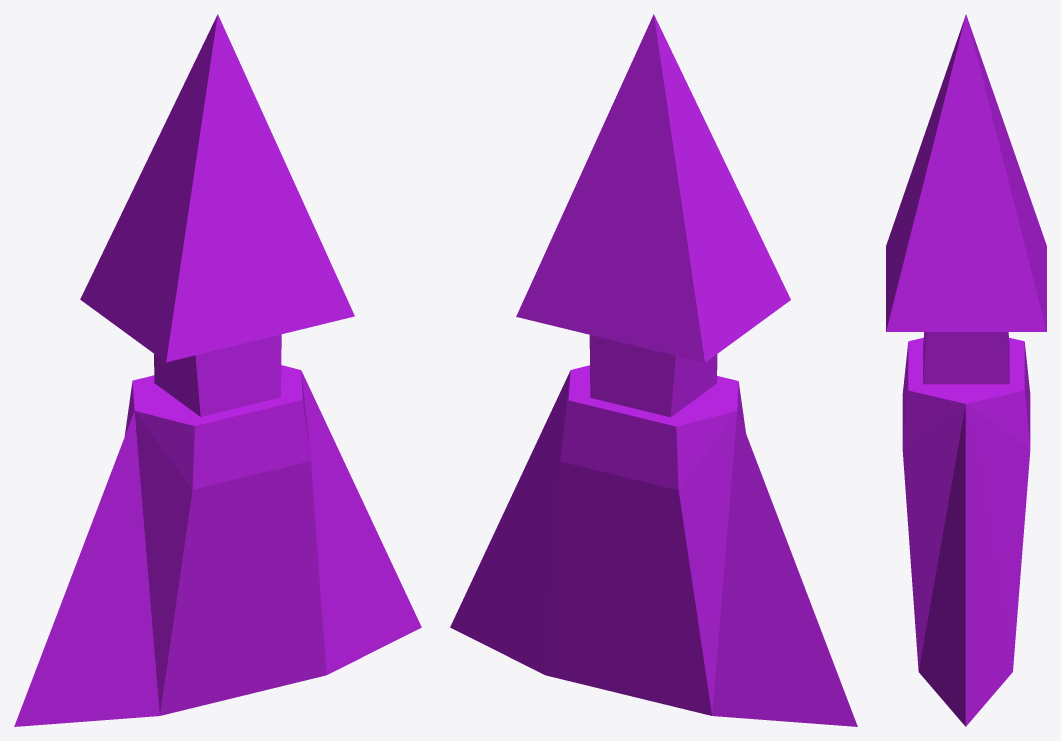
The model's file is enemy.fbx.
3 renders of one model, left to right at view 1: azimuth 30°, elevation 25°; view 2: azimuth 150°, elevation 25°; view 3: azimuth 270°, elevation 25°, orthographic. The views are drawn at different scales.
Parts seen in each view (by area): view 1: jack; view 2: jack; view 3: jack.
Part boxes in pixels (x1,y1,x2,y2): jack: (14,14,421,726); jack: (450,14,857,726); jack: (886,14,1046,726).
Bounding box in the file's own units: 3.94 × 6.13 × 1.44.
1 material, 1 textured.
